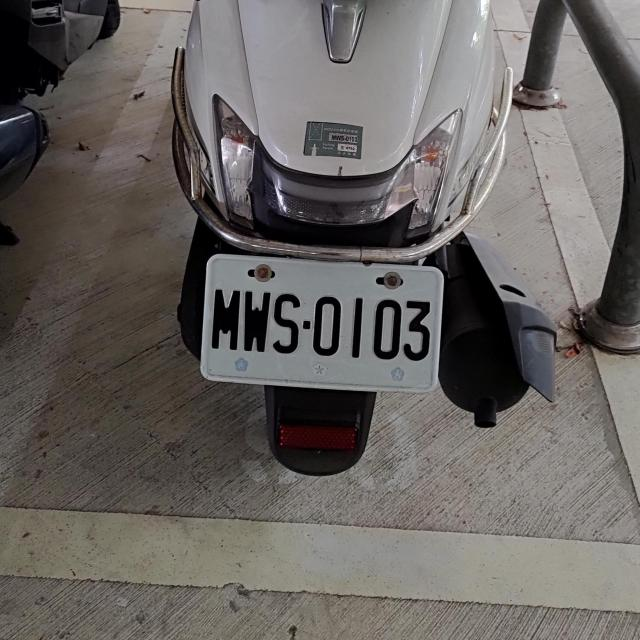W: (196, 250, 444, 395)
